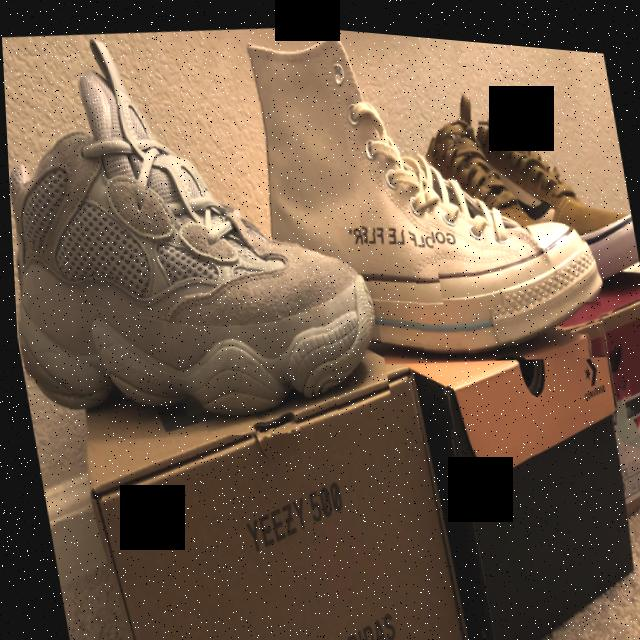shoe: (0, 0, 393, 466), (227, 16, 622, 386), (404, 52, 640, 313)
